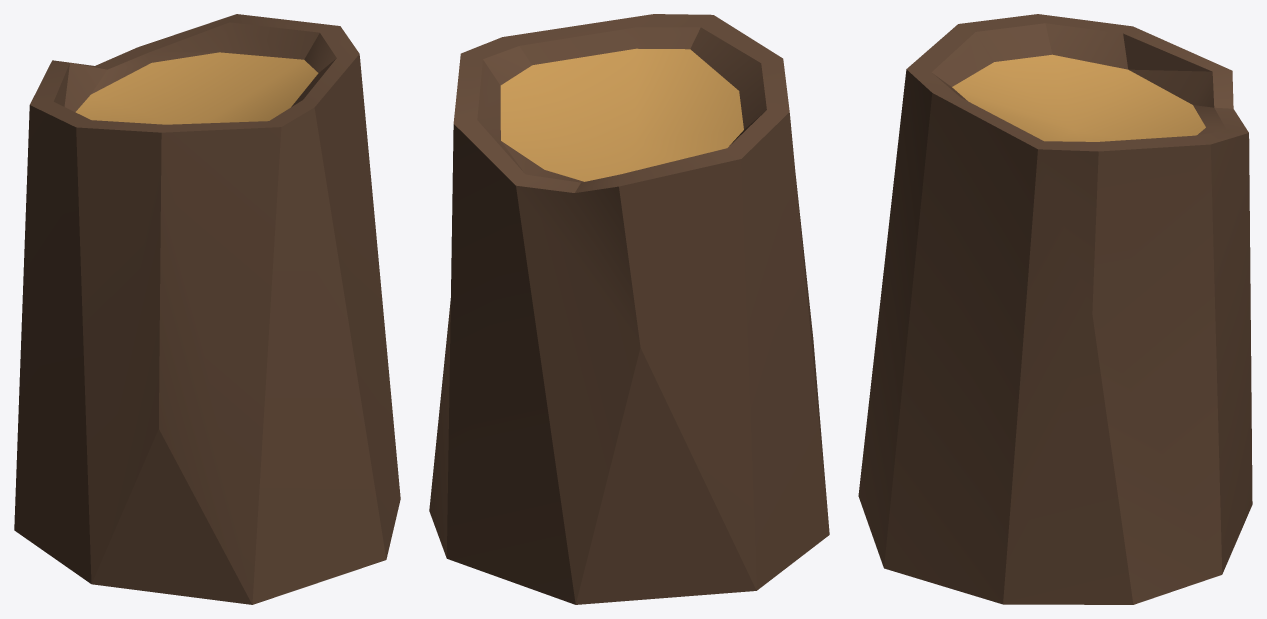
File: BroadleafStumpB.fbx
3 renders of one model, left to right at view 1: azimuth 30°, elevation 25°; view 2: azimuth 150°, elevation 25°; view 3: azimuth 270°, elevation 25°, orthographic.
Parts seen in each view (by area): view 1: BroadleafBrokenB; view 2: BroadleafBrokenB; view 3: BroadleafBrokenB.
Part boxes in pixels (x1,y1,x2,y2): BroadleafBrokenB: (14,14,400,604); BroadleafBrokenB: (429,14,829,604); BroadleafBrokenB: (858,14,1252,604).
Size of the model in its own units: 65.09 by 86.27 by 68.03.
